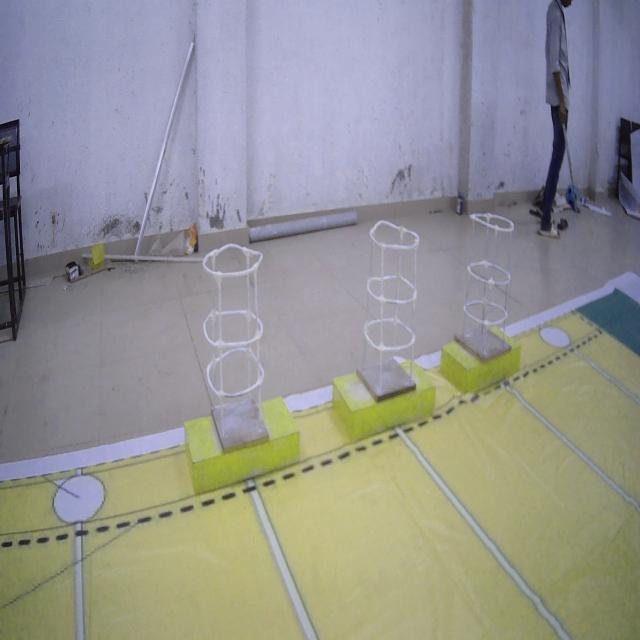silo: (195, 226, 278, 458), (358, 214, 426, 416), (455, 196, 523, 384)
